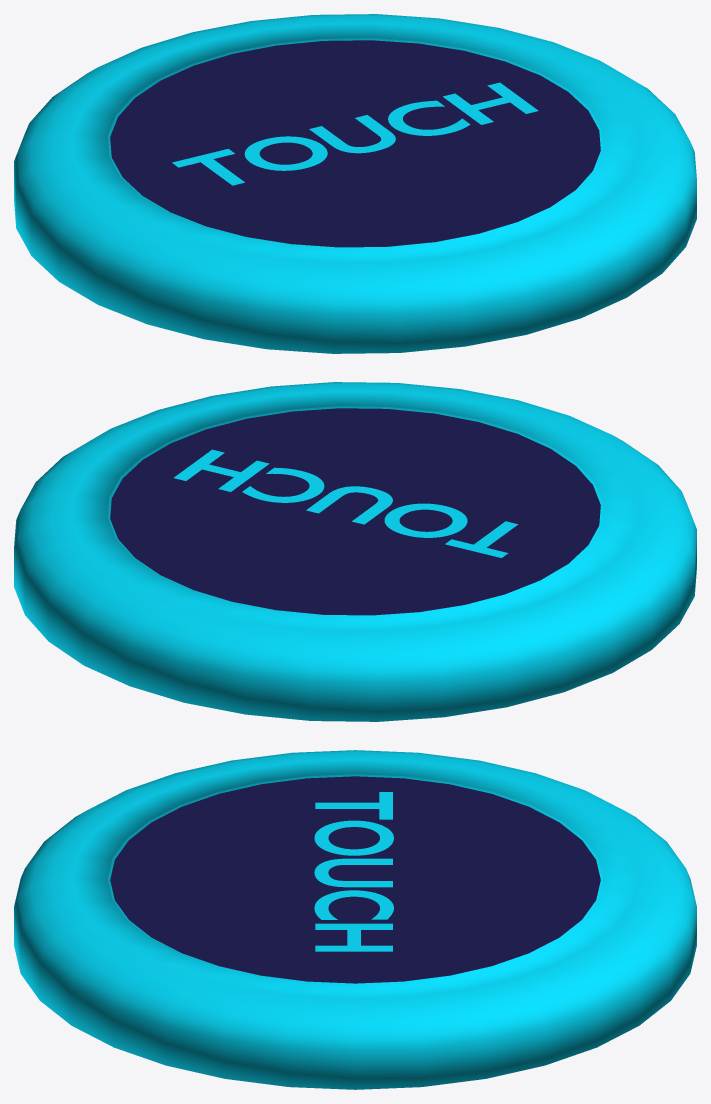
Rendered from Tap丸ボタン.fbx.
3 views of the same model, one above another, from view 1: azimuth 30°, elevation 25°; view 2: azimuth 150°, elevation 25°; view 3: azimuth 270°, elevation 25° (orthographic).
Visible parts, largest first — view 1: 円柱, 円, テキスト; view 2: 円柱, 円, テキスト; view 3: 円柱, 円, テキスト.
Part boxes in pixels (x1,y1,x2,y2): 円柱: [14, 14, 696, 353]; 円: [110, 40, 600, 247]; テキスト: [172, 82, 538, 185]; 円柱: [14, 382, 696, 721]; 円: [110, 408, 600, 615]; テキスト: [174, 449, 517, 557]; 円柱: [14, 750, 696, 1089]; 円: [110, 776, 600, 983]; テキスト: [314, 792, 393, 951].
Size of the model in its own units: 200 by 23.69 by 200.
